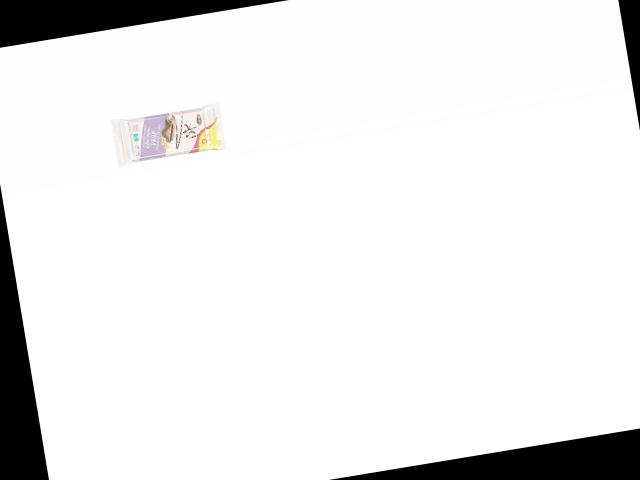chocolate: (108, 97, 230, 170)
